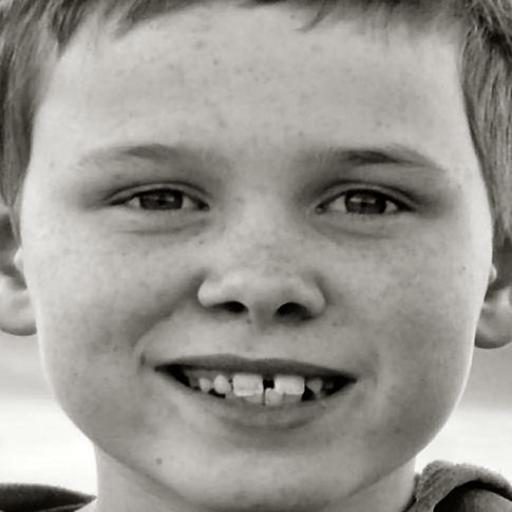Autism: (24, 7, 512, 496)
